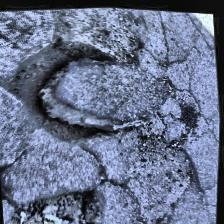pothole: (0, 28, 134, 156)
